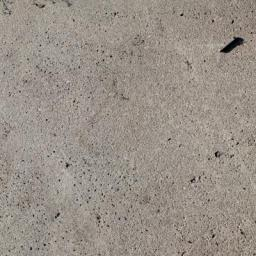FOD: (213, 31, 245, 59)
